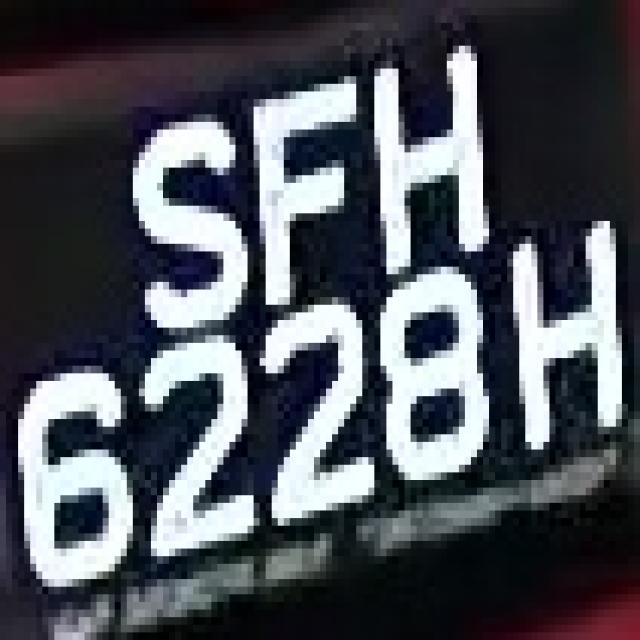2: (248, 305, 392, 541), (133, 328, 260, 572)
6: (6, 350, 145, 594)
8: (362, 252, 507, 510)
F: (248, 61, 380, 312)
H: (489, 228, 640, 464), (350, 23, 495, 259)
S: (109, 107, 248, 343)
